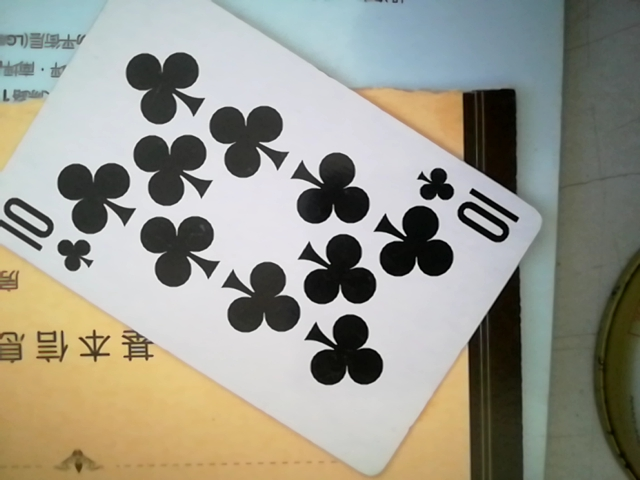mh 10: (2, 5, 559, 477)
